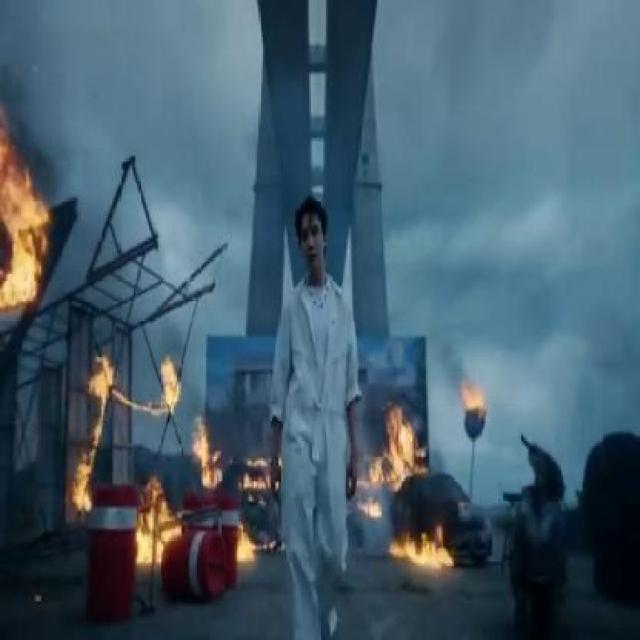fire: (1, 202, 48, 312), (134, 468, 178, 574), (396, 520, 458, 574), (388, 388, 417, 490), (461, 383, 484, 419)
smoke: (1, 44, 61, 194), (138, 422, 194, 489), (420, 308, 465, 381), (344, 481, 390, 552), (220, 370, 257, 453), (351, 360, 382, 457), (150, 300, 198, 360)
